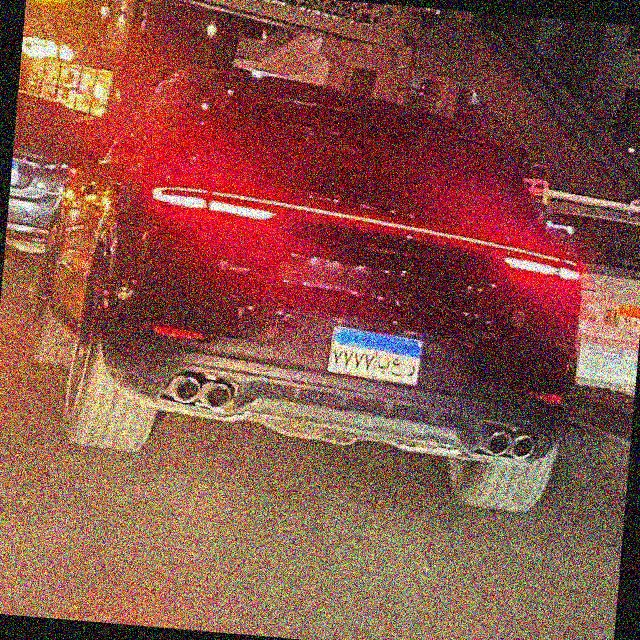License Plate: (324, 324, 426, 387)
